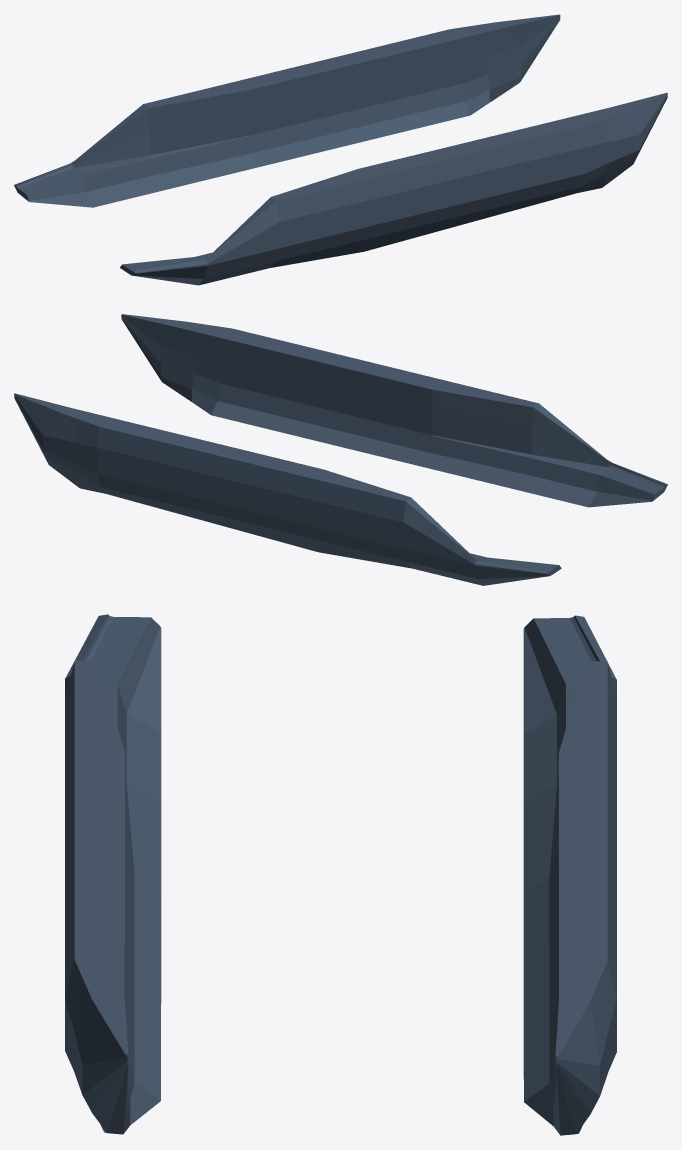
3 views of the same model, one above another, from view 1: azimuth 30°, elevation 25°; view 2: azimuth 150°, elevation 25°; view 3: azimuth 270°, elevation 25° (orthographic). The views are drawn at different scales.
Parts seen in each view (by area): view 1: 立方体.003, 立方体.015; view 2: 立方体.015, 立方体.003; view 3: 立方体.015, 立方体.003.
Boxes of the visible parts, <box> form: 立方体.003: <box>14,14,560,207</box>; 立方体.015: <box>120,92,667,285</box>; 立方体.015: <box>121,314,667,507</box>; 立方体.003: <box>14,393,561,585</box>; 立方体.015: <box>65,614,161,1134</box>; 立方体.003: <box>523,615,616,1135</box>.
Bounding box in the file's own units: 8.26 × 1.16 × 3.67.
